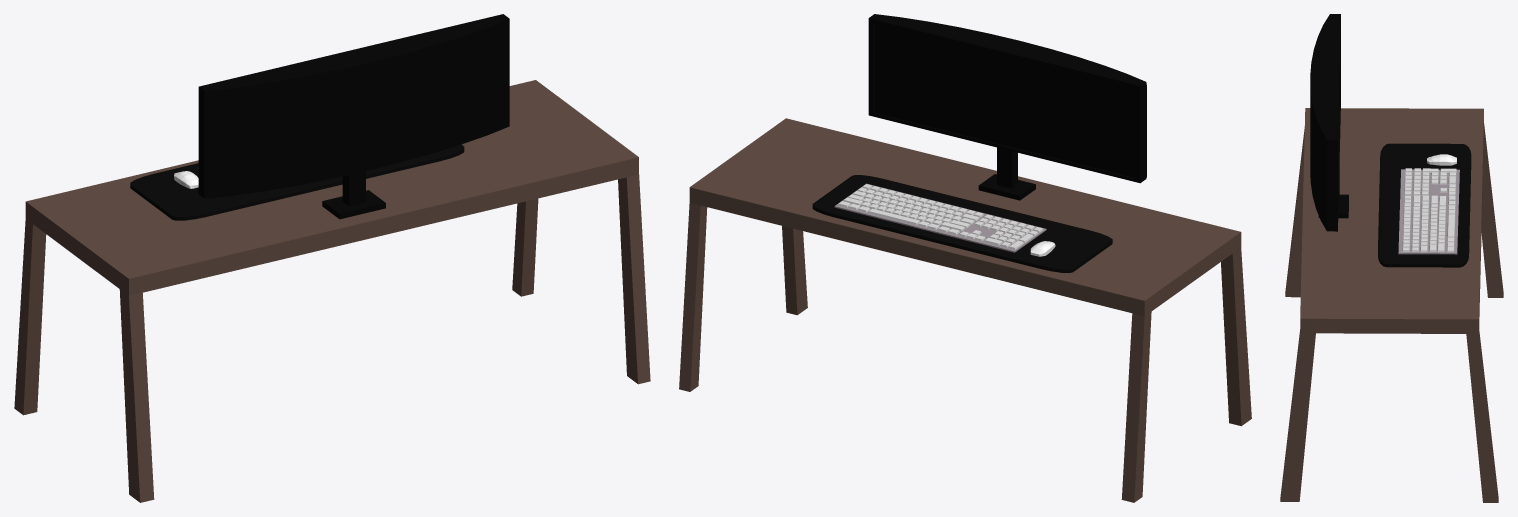
File: Computer.glb
3 renders of one model, left to right at view 1: azimuth 30°, elevation 25°; view 2: azimuth 150°, elevation 25°; view 3: azimuth 270°, elevation 25°, orthographic. The views are drawn at different scales.
Visible parts, largest first — view 1: Cube.009, Cube.010, Roundcube.001; view 2: Cube.009, Cube.010, Roundcube.001, Cube.016; view 3: Cube.009, Roundcube.001, Cube.010, Cube.016, Roundcube.002.
Boxes of the visible parts, <box> form: Cube.009: <box>14,80,650,502</box>; Cube.010: <box>198,14,509,219</box>; Roundcube.001: <box>130,144,464,220</box>; Cube.009: <box>679,118,1251,502</box>; Cube.010: <box>868,14,1146,200</box>; Roundcube.001: <box>812,175,1112,272</box>; Cube.016: <box>834,183,1046,252</box>; Cube.009: <box>1280,108,1503,502</box>; Roundcube.001: <box>1378,143,1471,267</box>; Cube.010: <box>1310,14,1348,231</box>; Cube.016: <box>1398,168,1459,254</box>; Roundcube.002: <box>1427,154,1456,165</box>.
Bounding box in the file's own units: 5.6 × 3.89 × 2.5.
